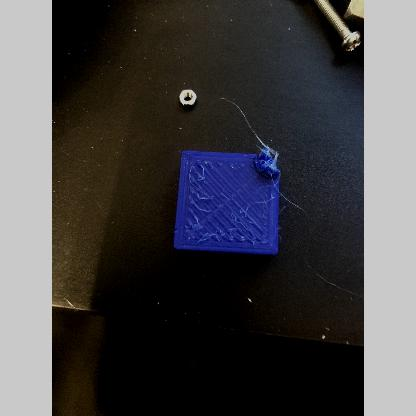fail: (190, 164, 268, 240), (254, 133, 283, 179)
